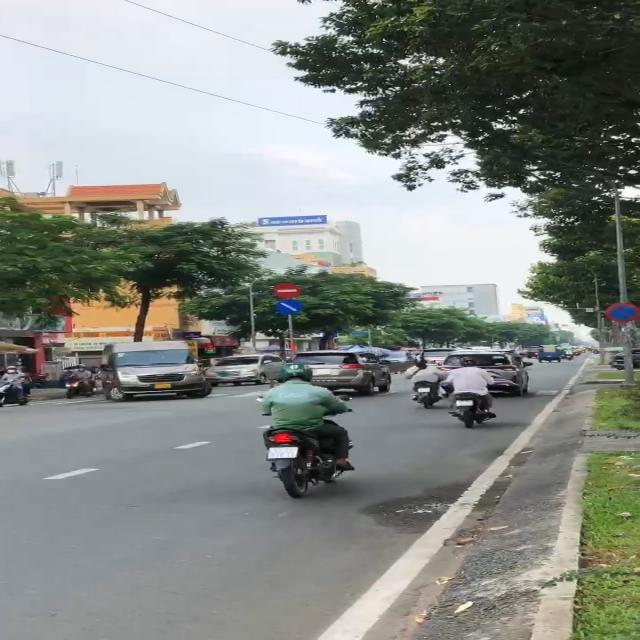Bien bao cam di nguoc chieu: (268, 282, 304, 299)
Bien bao huong phai di vong chuong ngai vat: (270, 299, 308, 318)
